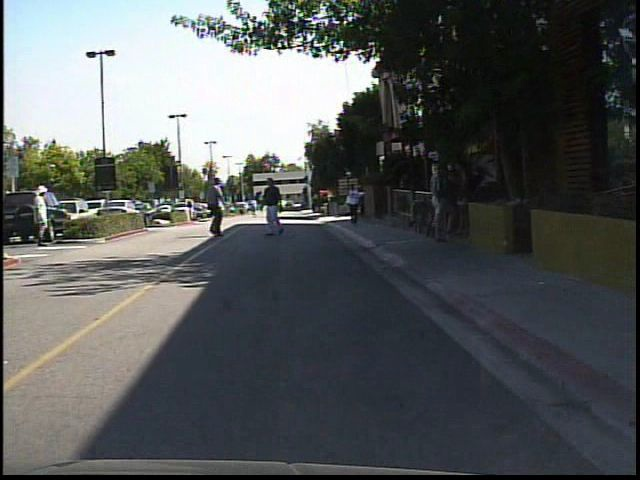person: (424, 151, 459, 247), (202, 173, 233, 241), (452, 161, 477, 245), (259, 178, 292, 239), (30, 181, 57, 249), (345, 181, 365, 226), (249, 194, 266, 219), (190, 197, 191, 222)
